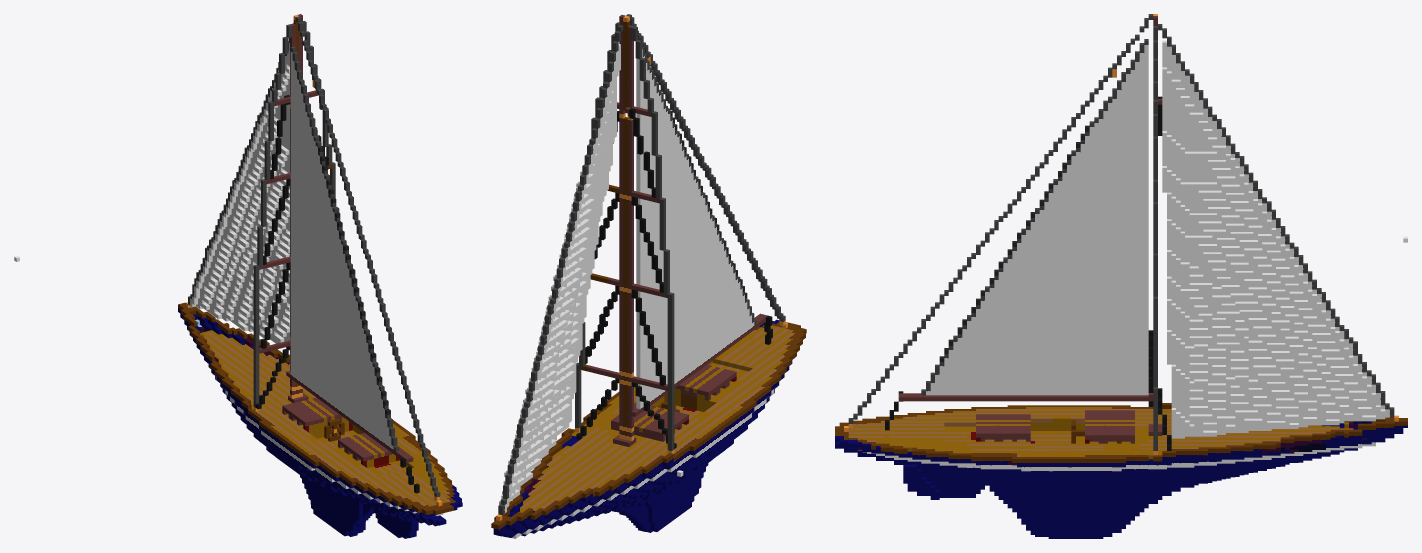
3 renders of one model, left to right at view 1: azimuth 30°, elevation 25°; view 2: azimuth 150°, elevation 25°; view 3: azimuth 270°, elevation 25°, orthographic. The views are drawn at different scales.
Visible parts, largest first — view 1: j3-Mesh; view 2: j3-Mesh; view 3: j3-Mesh.
Boxes of the visible parts, box(x1,y1,x2,y2) form: j3-Mesh: box(14, 14, 462, 538); j3-Mesh: box(491, 14, 806, 538); j3-Mesh: box(835, 14, 1407, 538).
Size of the model in its own units: 60 by 126 by 126.
1 material, 1 textured.
